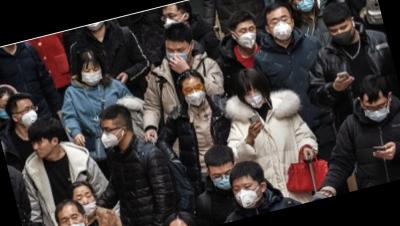mask_weared_incorrect: (72, 188, 100, 220)
with_mask: (229, 178, 265, 213), (328, 21, 360, 50), (267, 12, 296, 43), (209, 165, 240, 193), (363, 97, 394, 125), (181, 80, 210, 109), (234, 22, 262, 51), (241, 83, 268, 111), (96, 122, 122, 151), (164, 41, 193, 67), (78, 63, 106, 89), (18, 102, 41, 129), (159, 8, 185, 31), (56, 209, 90, 226)
without_mask: (30, 135, 54, 161)
